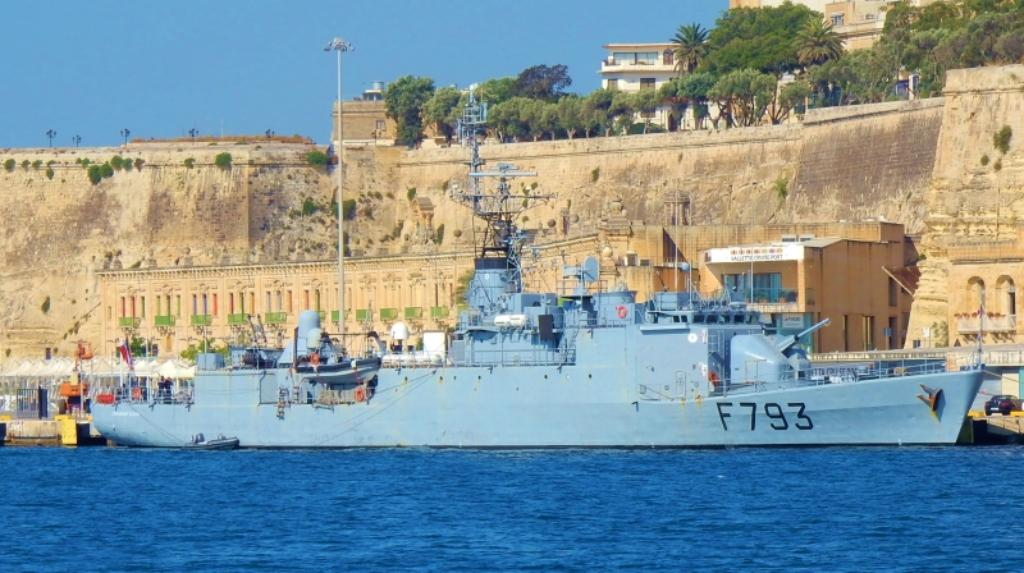Warship: (89, 80, 1001, 448)
